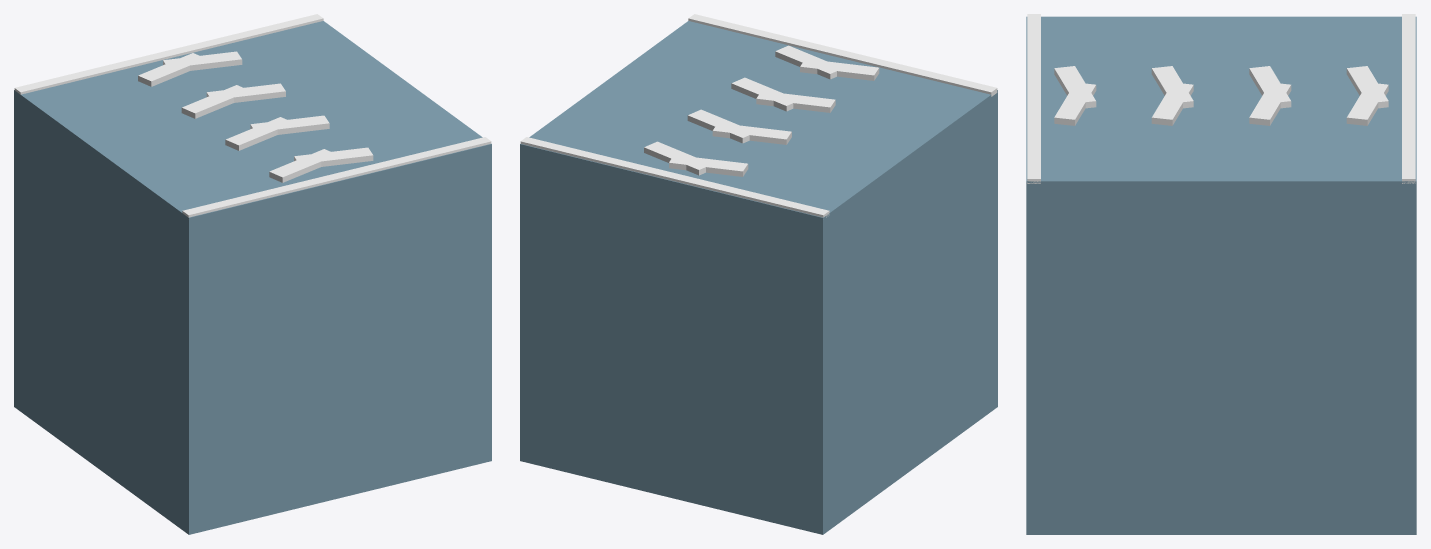
File: Conveyor_Full.glb
3 views of the same model, side by side, from view 1: azimuth 30°, elevation 25°; view 2: azimuth 150°, elevation 25°; view 3: azimuth 270°, elevation 25° (orthographic). The views are drawn at different scales.
Parts seen in each view (by area): view 1: Conveyor_Full_body, rail_0.48, rail_-0.48, chev_0_1, chev_3_1, chev_1_1, chev_2_1, chev_1_-1, chev_2_-1, chev_0_-1, chev_3_-1; view 2: Conveyor_Full_body, rail_-0.48, rail_0.48, chev_2_1, chev_0_1, chev_3_1, chev_1_-1, chev_1_1, chev_0_-1, chev_2_-1, chev_3_-1; view 3: Conveyor_Full_body, rail_0.48, rail_-0.48, chev_2_-1, chev_3_-1, chev_1_-1, chev_0_-1, chev_1_1, chev_0_1, chev_3_1, chev_2_1.
Part boxes in pixels (x1,y1,x2,y2): Conveyor_Full_body: [14, 21, 491, 534]; rail_0.48: [14, 14, 323, 94]; rail_-0.48: [182, 137, 491, 217]; chev_0_1: [269, 149, 336, 182]; chev_3_1: [138, 53, 205, 86]; chev_1_1: [225, 117, 293, 150]; chev_2_1: [181, 85, 243, 118]; chev_1_-1: [250, 115, 329, 134]; chev_2_-1: [206, 83, 285, 102]; chev_0_-1: [294, 147, 373, 166]; chev_3_-1: [163, 51, 242, 70]; Conveyor_Full_body: [520, 21, 997, 534]; rail_-0.48: [688, 14, 997, 96]; rail_0.48: [520, 137, 829, 217]; chev_2_1: [712, 123, 791, 144]; chev_0_1: [800, 59, 879, 80]; chev_3_1: [669, 155, 748, 176]; chev_1_-1: [731, 77, 799, 111]; chev_1_1: [756, 93, 835, 112]; chev_0_-1: [775, 45, 836, 79]; chev_2_-1: [687, 109, 749, 143]; chev_3_-1: [644, 141, 705, 175]; Conveyor_Full_body: [1026, 16, 1416, 534]; rail_0.48: [1402, 14, 1415, 183]; rail_-0.48: [1027, 14, 1040, 183]; chev_2_-1: [1249, 82, 1291, 125]; chev_3_-1: [1346, 83, 1388, 125]; chev_1_-1: [1151, 82, 1193, 125]; chev_0_-1: [1054, 82, 1096, 125]; chev_1_1: [1151, 66, 1193, 108]; chev_0_1: [1054, 66, 1096, 108]; chev_3_1: [1346, 66, 1388, 108]; chev_2_1: [1249, 66, 1291, 108].
Bounding box in the file's own units: 1 × 1.02 × 1.
